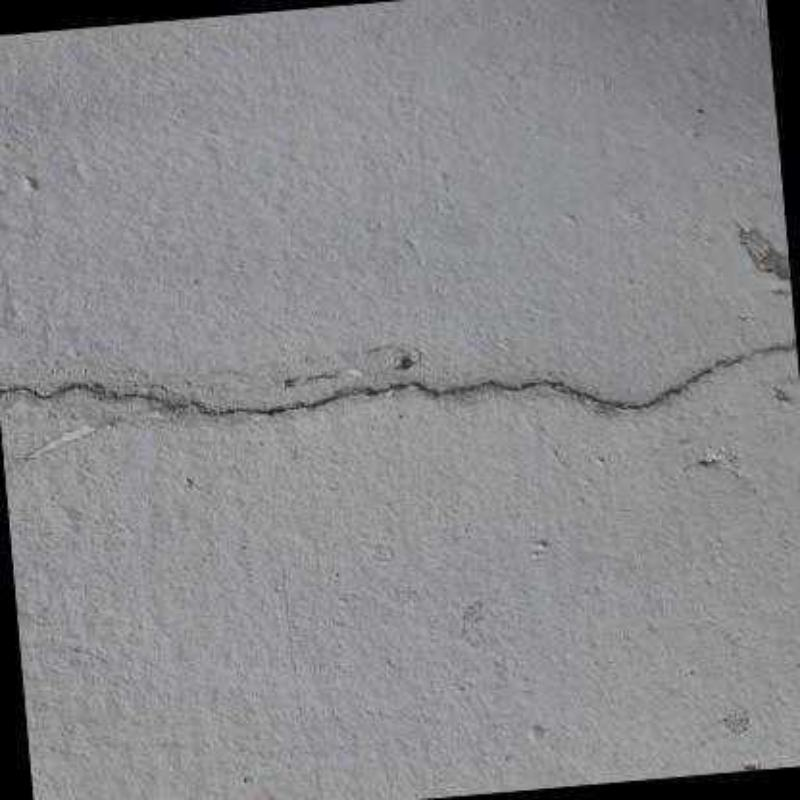crack: (0, 339, 796, 417)
